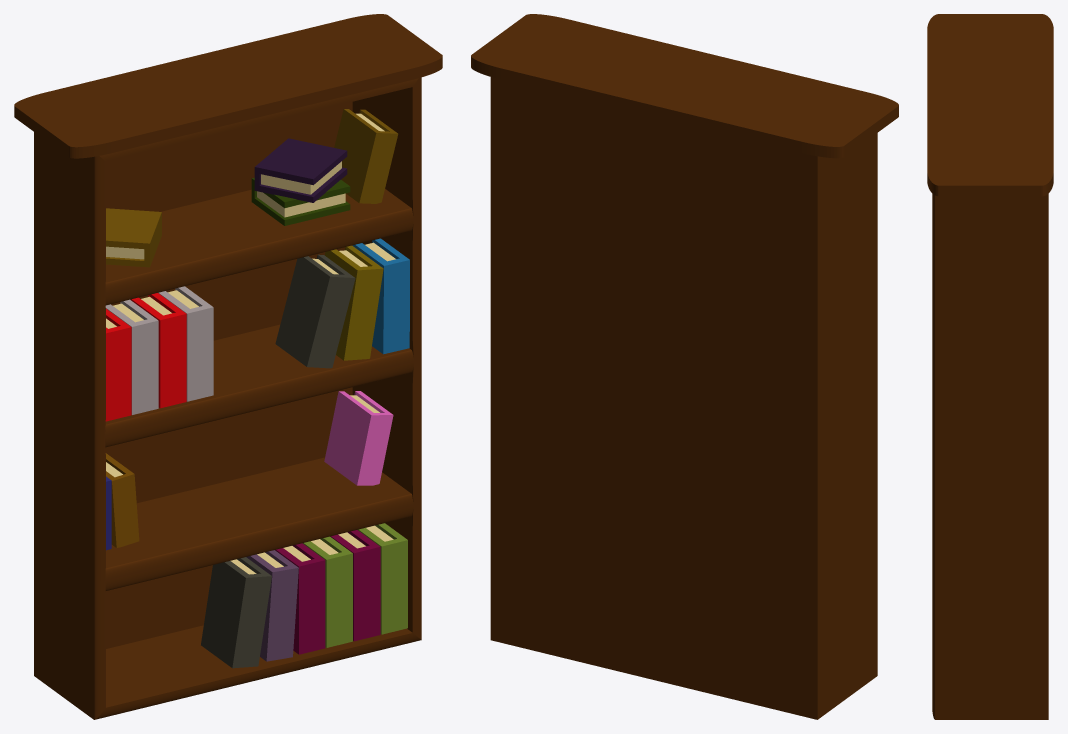
File: Estante-de-Livros.fbx
3 views of the same model, side by side, from view 1: azimuth 30°, elevation 25°; view 2: azimuth 150°, elevation 25°; view 3: azimuth 270°, elevation 25° (orthographic). The views are drawn at different scales.
Parts seen in each view (by area): view 1: Cube.037, Cube.050, Cube.045, Cube.054, Cube.043, Cube.048, Cube.051, Cube.047, Cube.056, Cube.058, Cube.052, Cube.053 (+4 smaller); view 2: Cube.037; view 3: Cube.037.
Boxes of the visible parts, x1,y1,x2,y2 form: Cube.037: [14, 14, 442, 719]; Cube.050: [105, 286, 213, 414]; Cube.045: [275, 530, 380, 654]; Cube.054: [275, 254, 355, 368]; Cube.043: [302, 523, 407, 647]; Cube.048: [201, 557, 271, 668]; Cube.051: [105, 293, 186, 421]; Cube.047: [324, 391, 393, 485]; Cube.056: [254, 138, 347, 202]; Cube.058: [334, 109, 398, 203]; Cube.052: [325, 245, 383, 360]; Cube.053: [352, 238, 409, 354]; Cube.037: [471, 14, 898, 719]; Cube.037: [927, 14, 1053, 719].
Bounding box in the file's own units: 691 × 1022 × 215.
